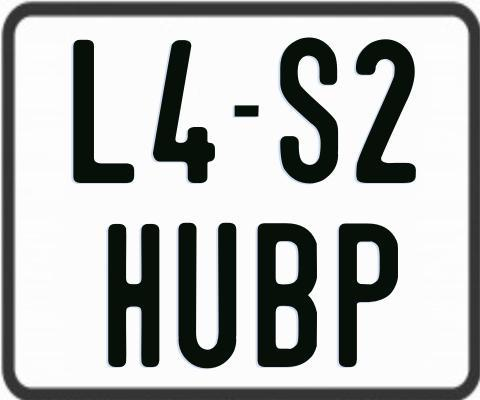2: (355, 38, 416, 182)
4: (152, 39, 218, 184)
B: (256, 222, 319, 368)
H: (108, 221, 165, 370)
L: (72, 37, 138, 185)
P: (339, 222, 404, 370)
S: (280, 35, 343, 186)
U: (176, 222, 236, 369)
